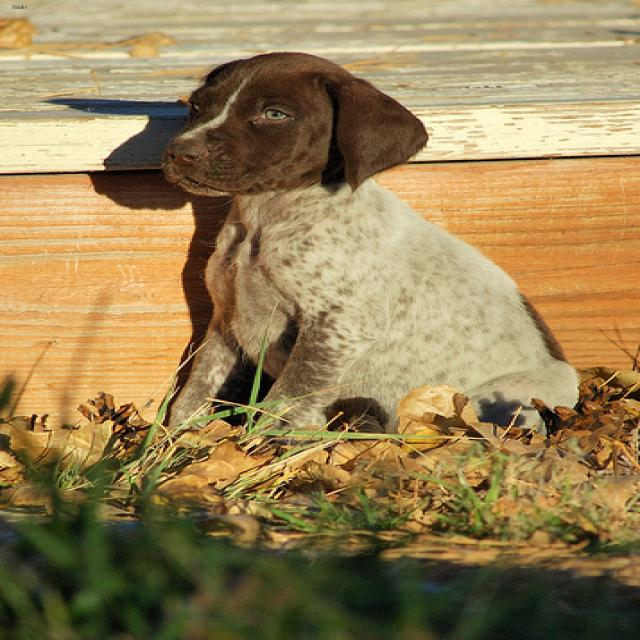dog-german_shorthaired: (136, 42, 636, 440)
